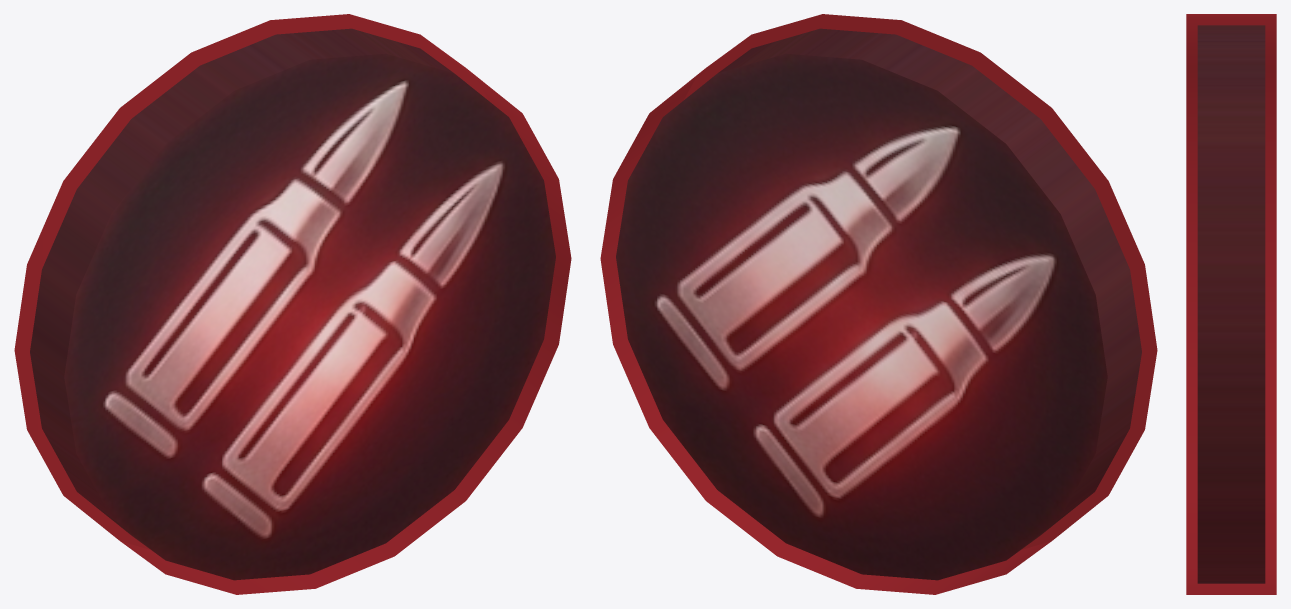
File: bullets4.glb
The picture shows the model from 3 angles, left to right: view 1: azimuth 30°, elevation 25°; view 2: azimuth 150°, elevation 25°; view 3: azimuth 270°, elevation 25°; orthographic projection.
Parts seen in each view (by area): view 1: bullets, bulletsOutline; view 2: bullets, bulletsOutline; view 3: bullets, bulletsOutline.
Part boxes in pixels (x1,y1,x2,y2): bullets: (30, 28, 555, 580); bulletsOutline: (14, 14, 571, 594); bullets: (616, 28, 1141, 580); bulletsOutline: (600, 14, 1157, 594); bullets: (1197, 25, 1265, 583); bulletsOutline: (1186, 14, 1276, 594).
Size of what is drawn, in the model's own units: 0.9226 by 0.9226 by 0.1421.
2 materials, 2 textured.
